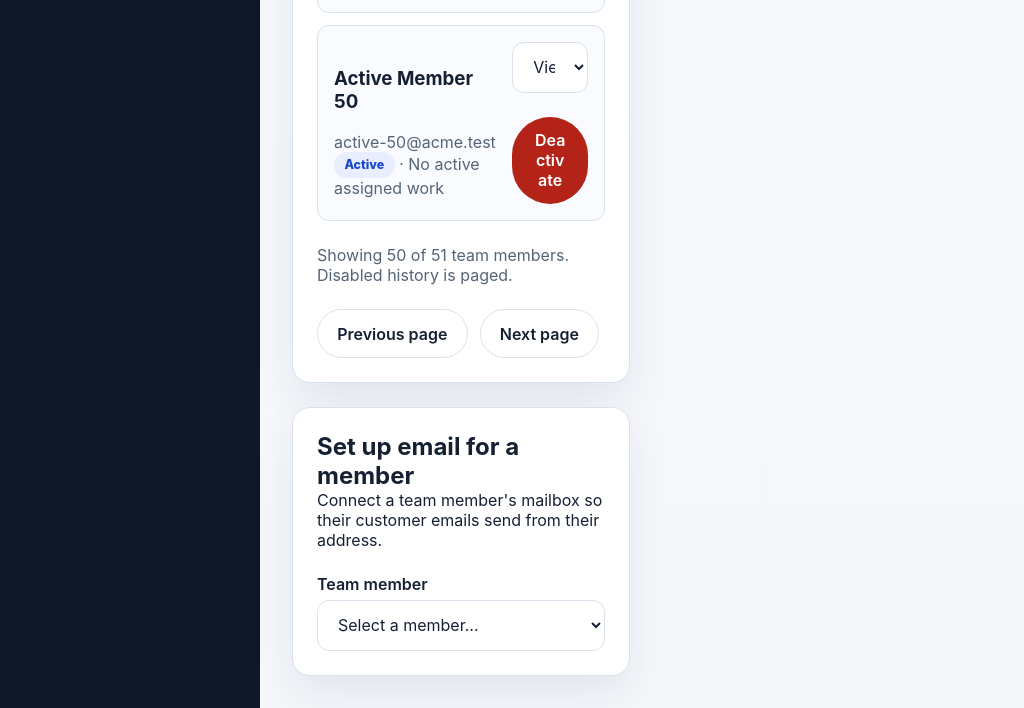
it: settings users route › continues to retained row 51 and applies literal search and status filters
This screenshot has width=1024, height=708.
(page scrolled)
expect the text "active-50@acme.test" is shown: met, box [334, 132, 496, 152]
expect the text "Showing 50 of 51 team members. Disabled history is paged." is shown: met, box [317, 245, 605, 285]
Click the button "Next page" at {"x": 539, "y": 334}, box [480, 309, 599, 358]
(page scrolled)
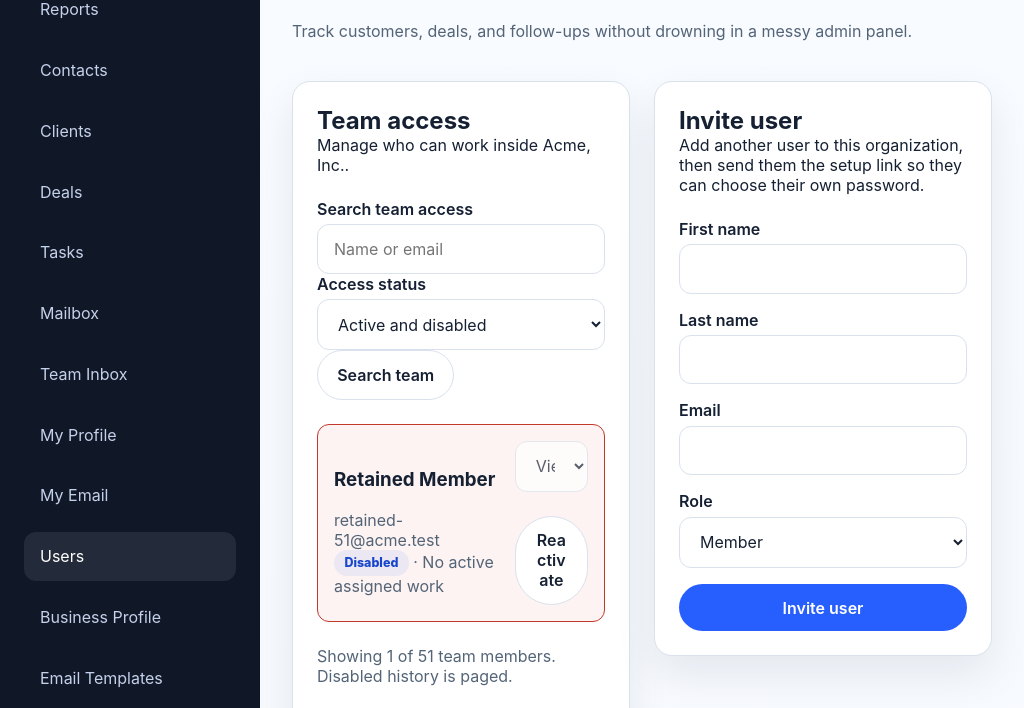
expect the text "retained-51@acme.test" is shown: met, box [334, 510, 440, 550]
expect the text "Showing 1 of 51 team members. Disabled history is paged." is shown: met, box [317, 646, 556, 686]
Select "Disabled" in the dropdown labelled "Access status" at {"x": 461, "y": 325}, box [317, 299, 605, 350]
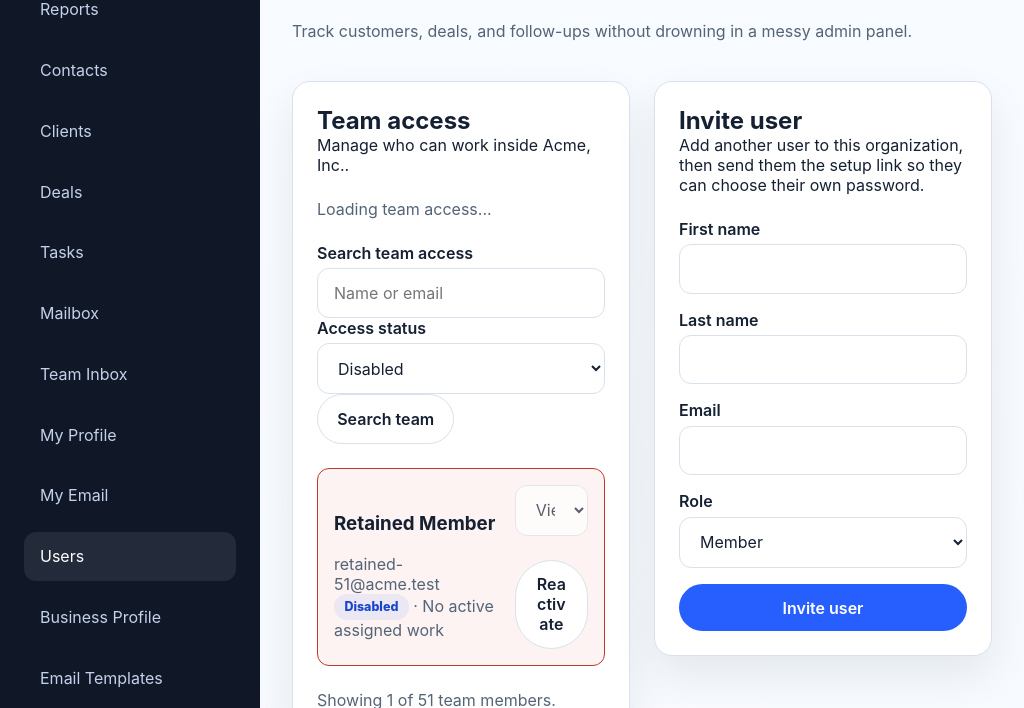
Type "literal_%" into the field labelled "Search team access" at {"x": 461, "y": 293}, box [317, 268, 605, 318]
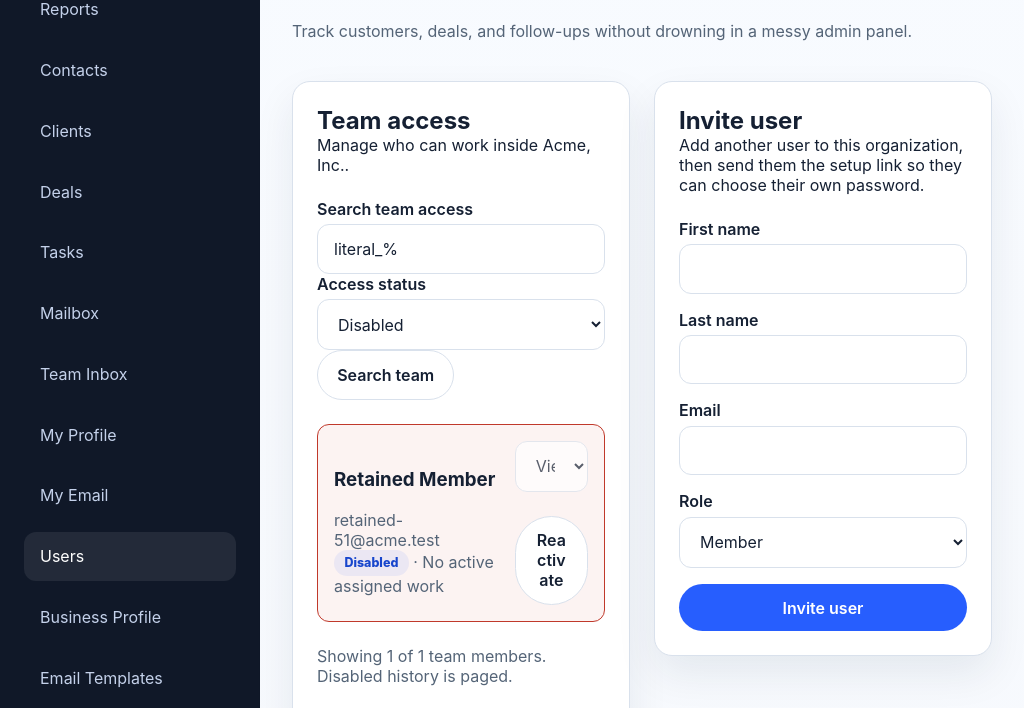
Click the button "Search team" at {"x": 386, "y": 375}, box [317, 350, 454, 400]
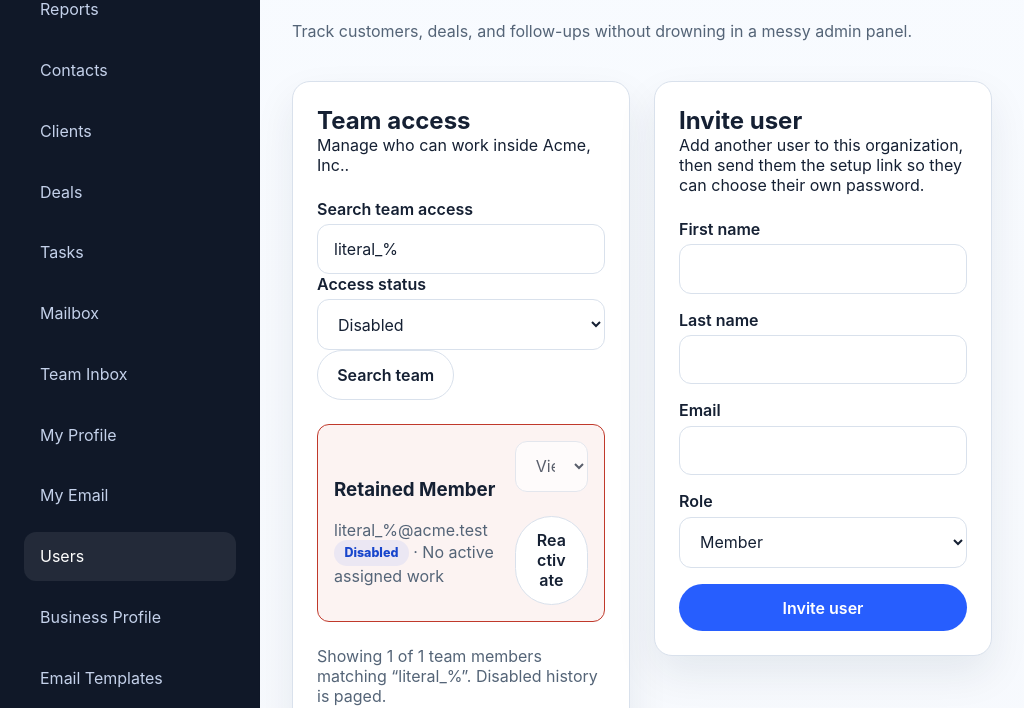
expect the text "literal_%@acme.test" is shown: met, box [334, 520, 499, 540]
